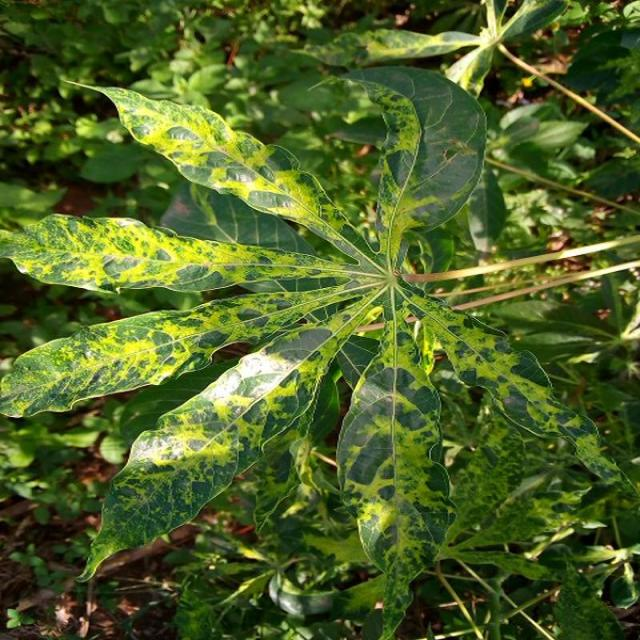cassava leaf: (1, 62, 626, 635), (75, 323, 339, 582), (334, 348, 456, 637)
